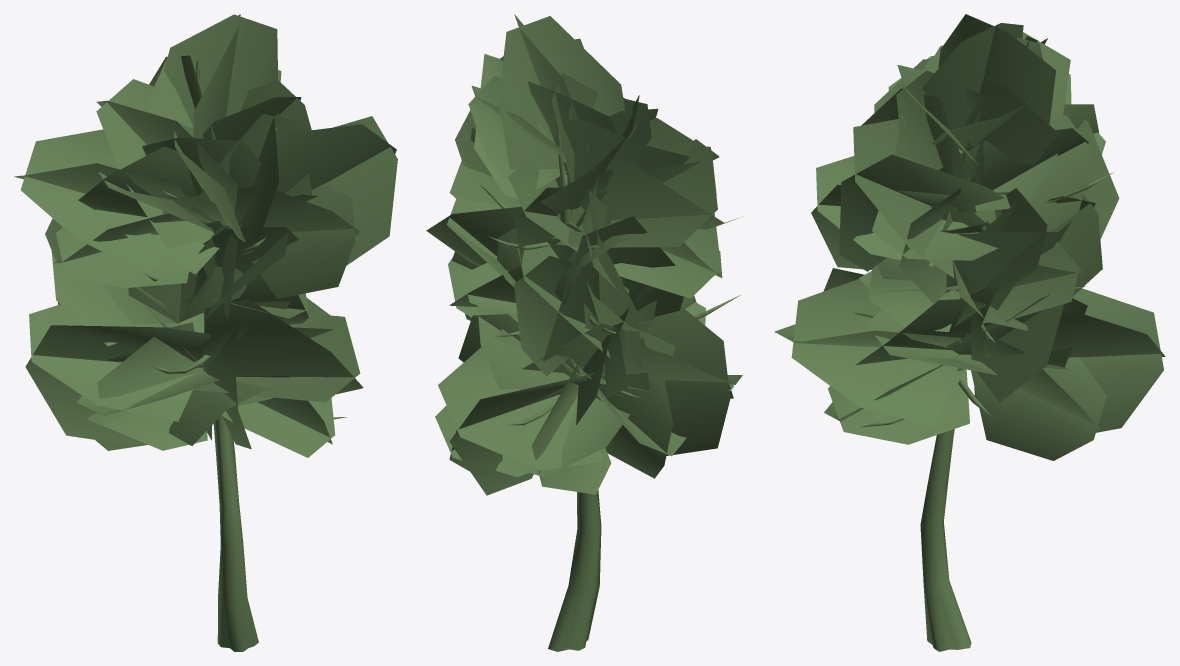
The model's file is Tree2.fbx.
3 views of the same model, side by side, from view 1: azimuth 30°, elevation 25°; view 2: azimuth 150°, elevation 25°; view 3: azimuth 270°, elevation 25° (orthographic). The views are drawn at different scales.
Visible parts, largest first — view 1: Tree2; view 2: Tree2; view 3: Tree2.
Boxes of the visible parts, bbox=[...] form: Tree2: bbox=[14, 14, 397, 651]; Tree2: bbox=[426, 14, 742, 651]; Tree2: bbox=[774, 14, 1165, 651].
Size of the model in its own units: 340 by 634 by 355.
